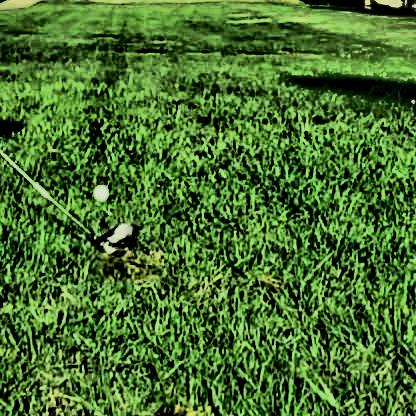golfball: (89, 180, 108, 199)
